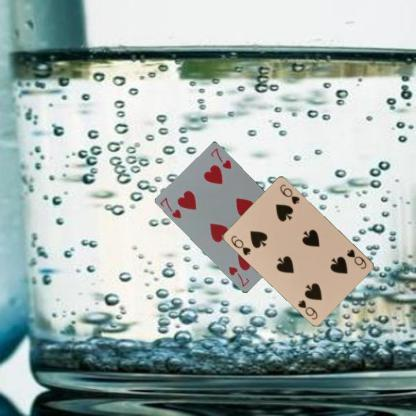6s: (344, 246, 368, 270), (228, 232, 252, 256)
7h: (158, 194, 182, 219)
